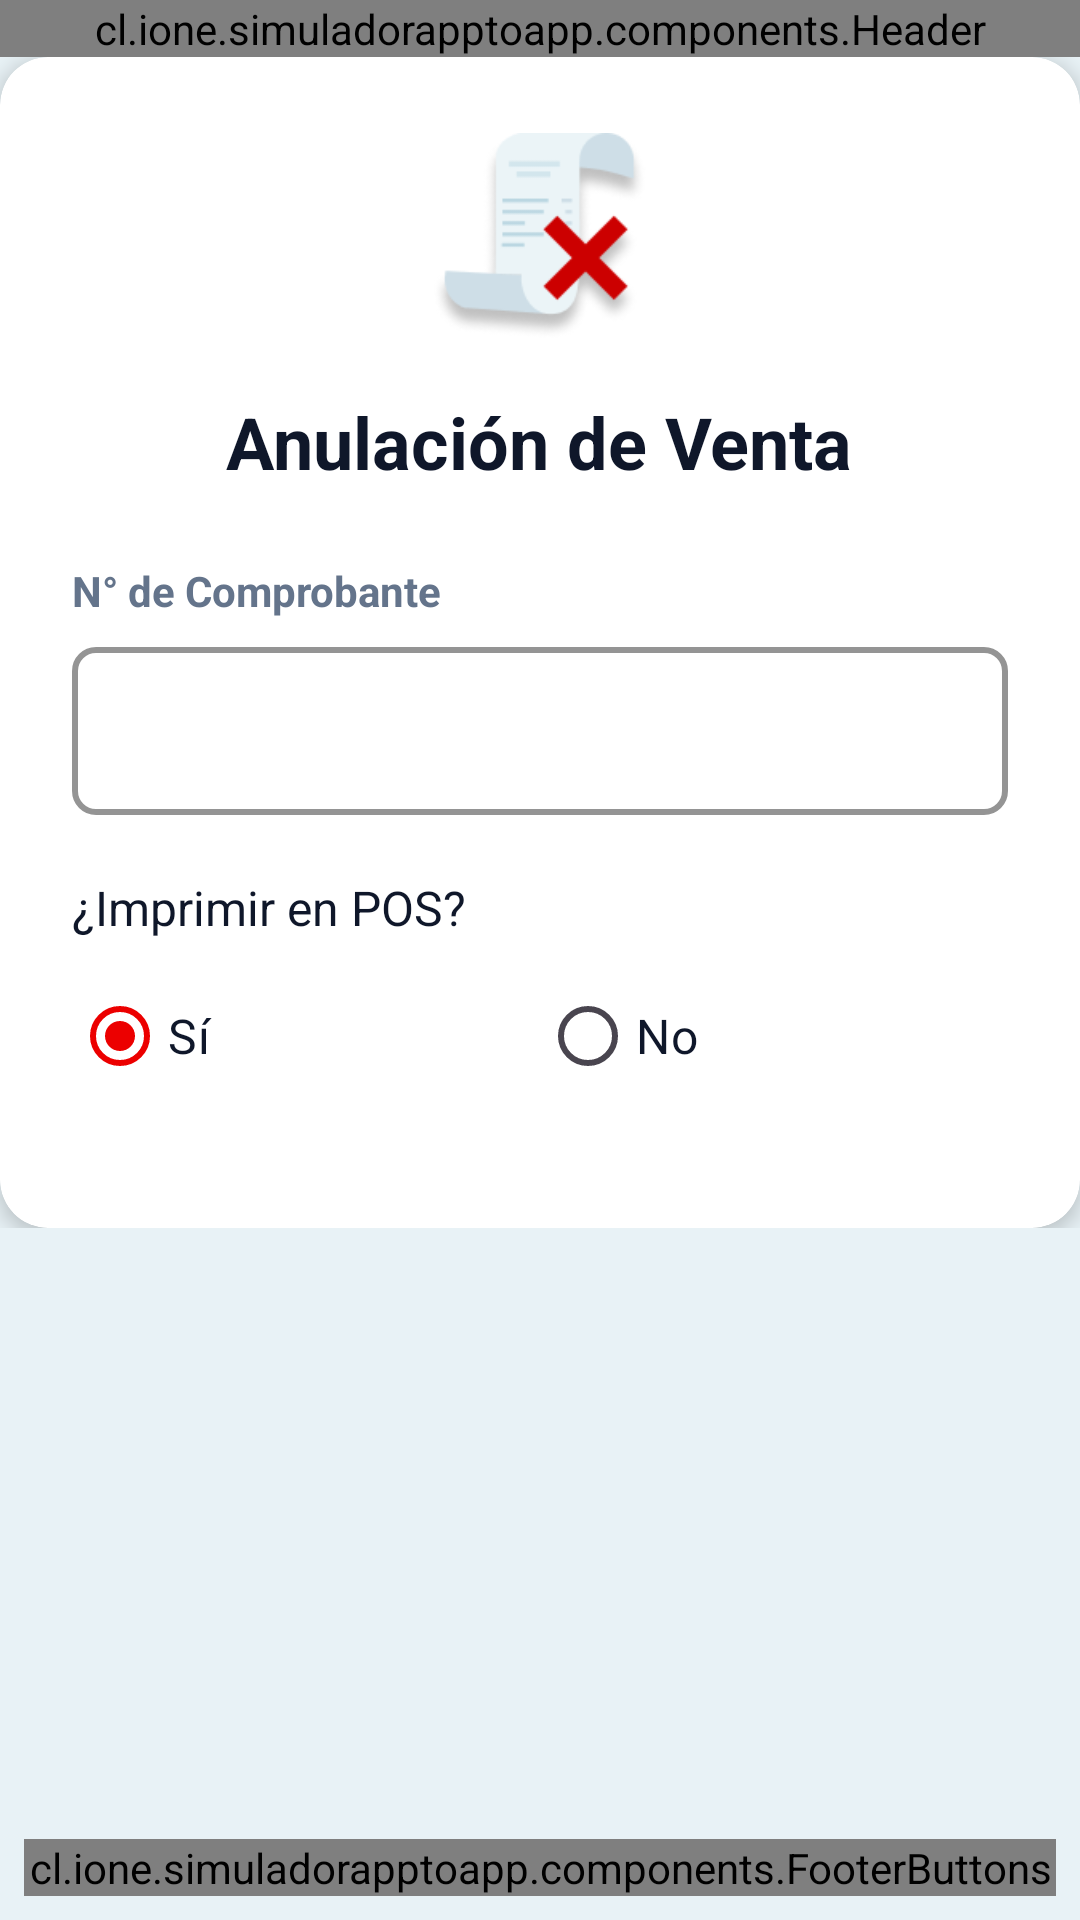

Point at icon controls on the screen. Image size 1080 × 1920, points as point (x, y).
anulacion: point (539, 230)
